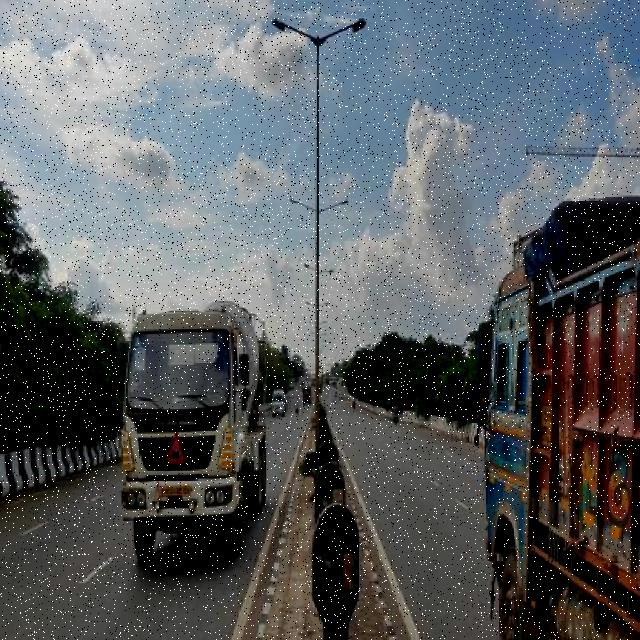truck: (469, 177, 640, 640), (118, 286, 266, 563)
